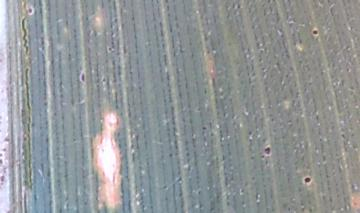tarspot: (260, 143, 273, 157), (76, 70, 88, 83), (301, 175, 314, 185), (309, 27, 321, 37), (27, 5, 34, 17), (199, 123, 207, 133)
